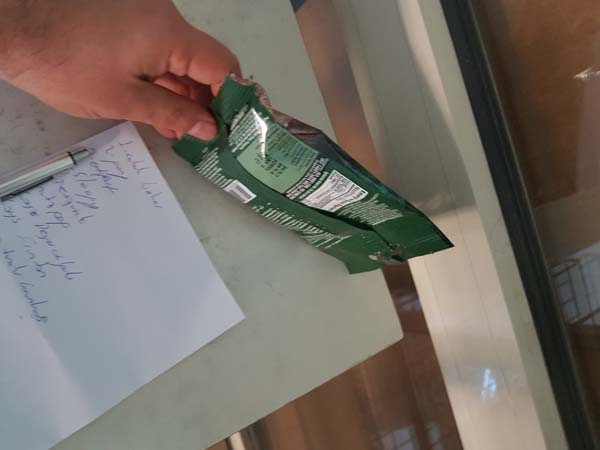peysankavrulmusfindik: (171, 64, 458, 281)
